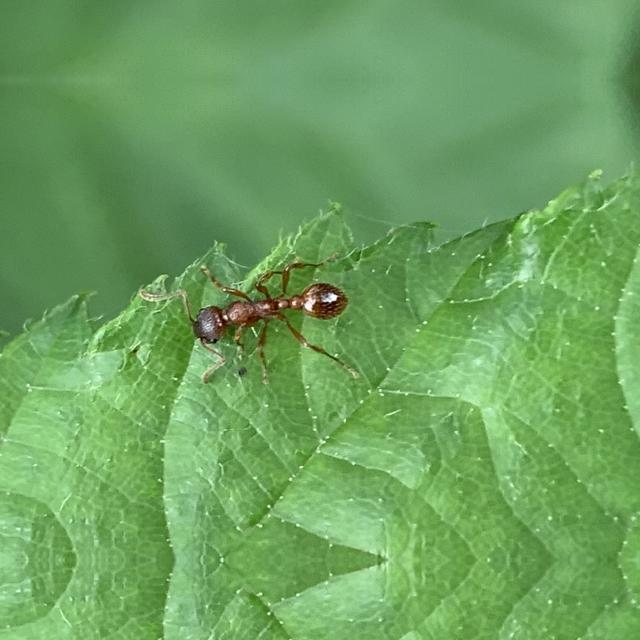Myrmica: (173, 250, 365, 362)
